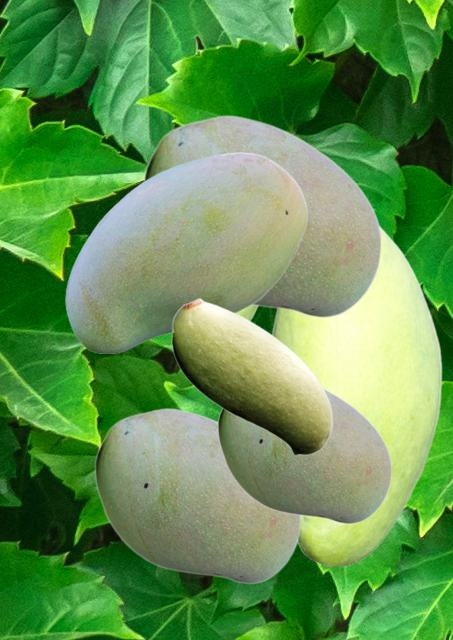green_mango: (270, 223, 441, 566), (65, 152, 307, 352), (143, 114, 381, 317), (94, 407, 300, 583), (171, 297, 332, 455), (217, 389, 391, 523)
